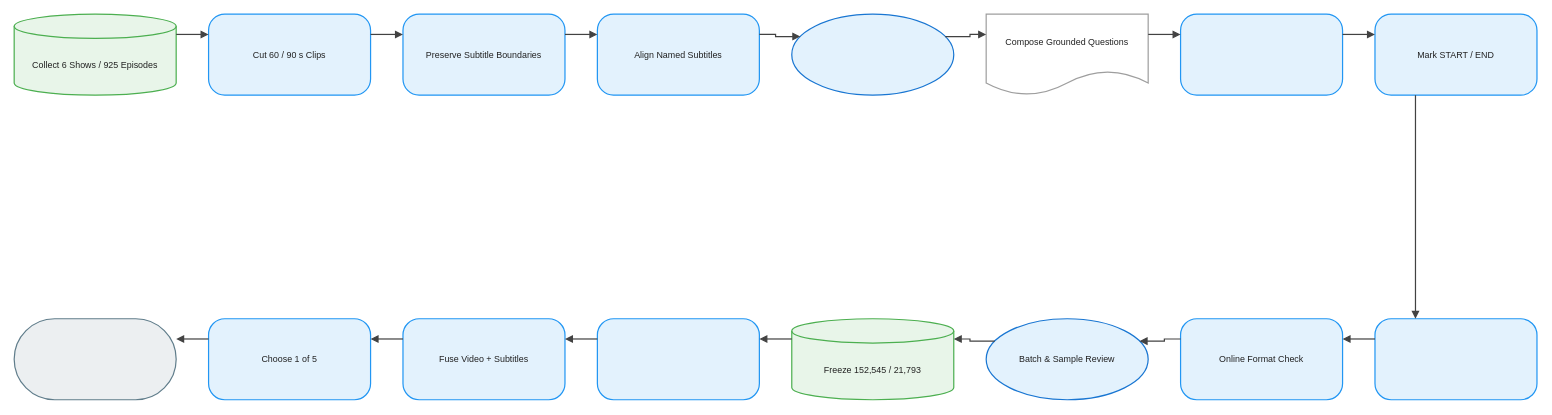
Image size: 1552x415. Some labels were removed from this diagram. The centre of each missing label's shape, as x and y in pixels:
"1 Correct + 4 Distractors" belongs at point (1455, 359).
"7 Questions per Clip" belongs at point (1261, 54).
"AMT Video + Dialogue" belongs at point (872, 54).
"Full vs Localized QA" belongs at point (678, 359).
"Report Accuracy" belongs at point (94, 359).
